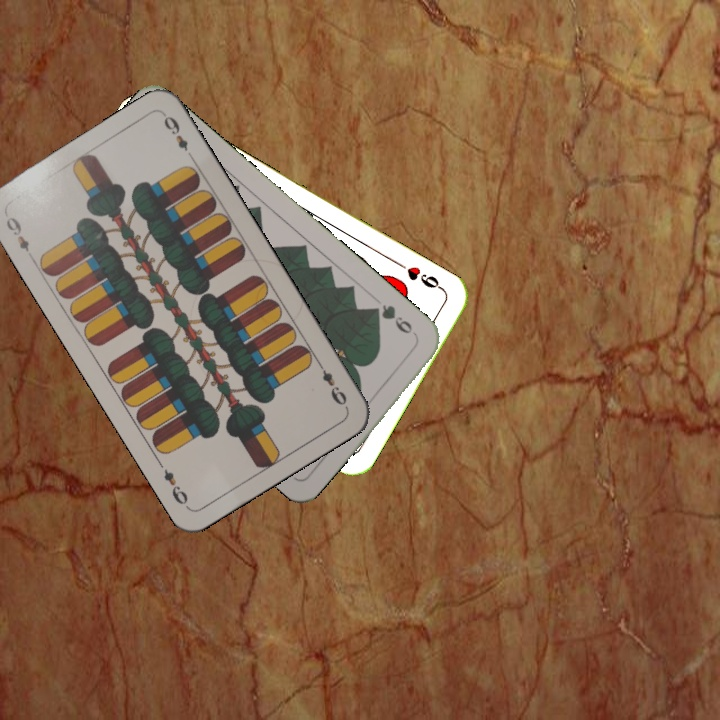E9: (313, 357, 350, 410), (2, 212, 32, 254)
G9: (367, 300, 416, 337)
H9: (392, 258, 446, 293)
